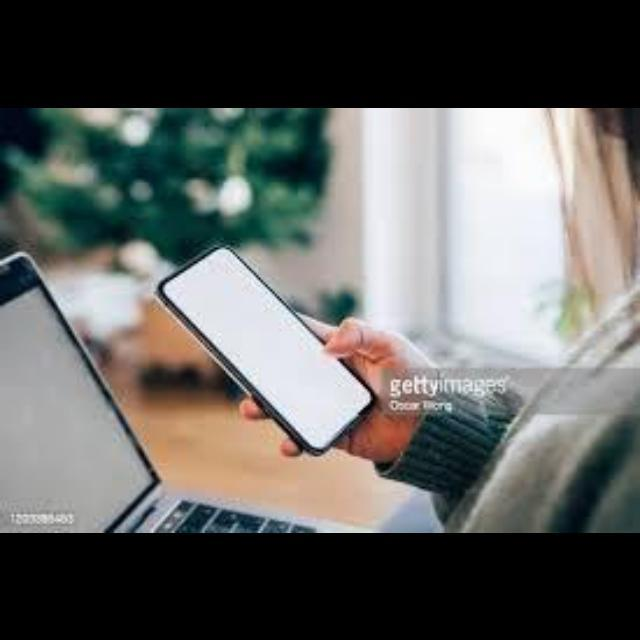Phone: (153, 242, 420, 446)
